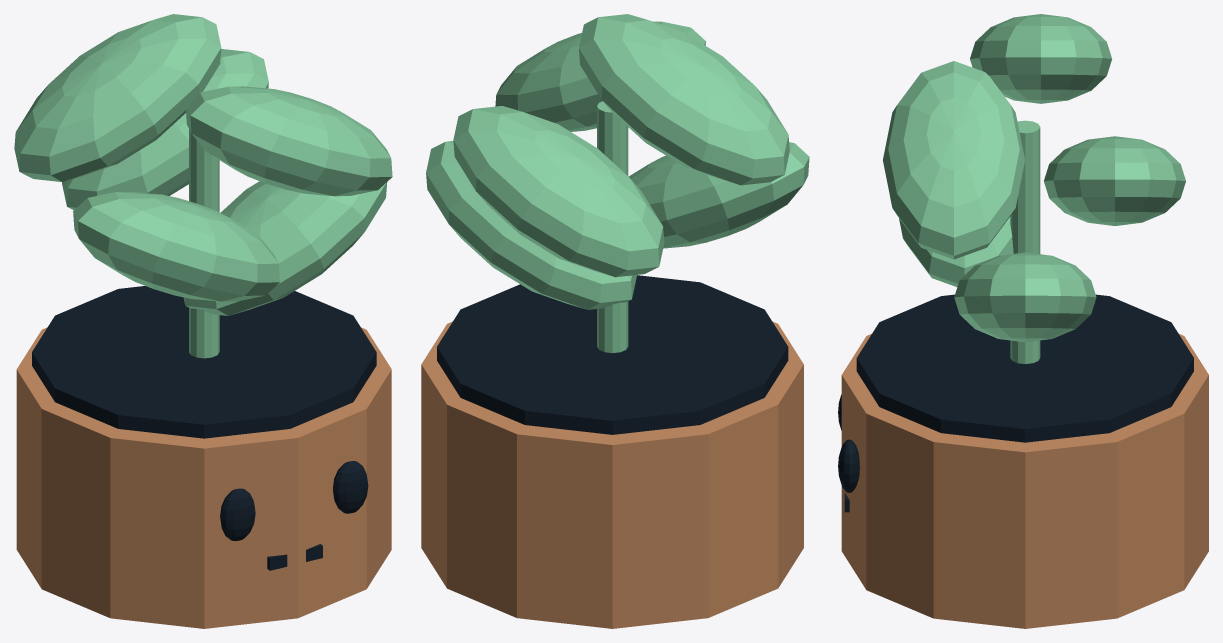
Rendered from kamote.glb.
3 views of the same model, side by side, from view 1: azimuth 30°, elevation 25°; view 2: azimuth 150°, elevation 25°; view 3: azimuth 270°, elevation 25° (orthographic). The views are drawn at different scales.
Visible parts, largest first — view 1: leaf (×5), pot, soil, stem, eye-right, eye-left, smile; view 2: pot, leaf (×5), soil, stem; view 3: pot, leaf (×5), soil, stem, eye-right.
Part boxes in pixels (bbox=[...]): leaf (×5): bbox=[14, 14, 392, 315]; pot: bbox=[16, 327, 391, 628]; soil: bbox=[32, 286, 376, 438]; stem: bbox=[189, 129, 219, 358]; eye-right: bbox=[333, 461, 368, 513]; eye-left: bbox=[220, 488, 255, 540]; smile: bbox=[267, 544, 322, 570]; pot: bbox=[421, 321, 803, 628]; leaf (×5): bbox=[426, 14, 809, 309]; soil: bbox=[437, 275, 788, 434]; stem: bbox=[597, 101, 628, 353]; pot: bbox=[841, 334, 1208, 628]; leaf (×5): bbox=[883, 14, 1185, 342]; soil: bbox=[856, 294, 1193, 442]; stem: bbox=[1010, 120, 1040, 363]; eye-right: bbox=[838, 439, 859, 492].
Size of the model in its own units: 1.07 by 1.52 by 0.99.
